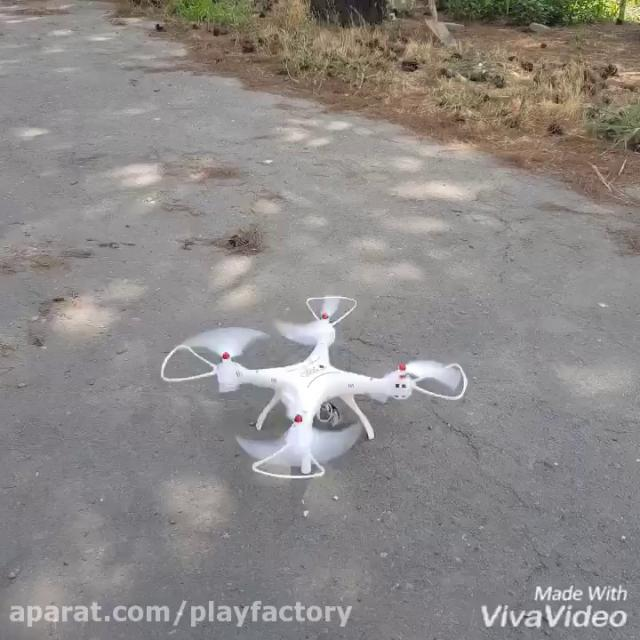drone: (156, 292, 470, 484)
